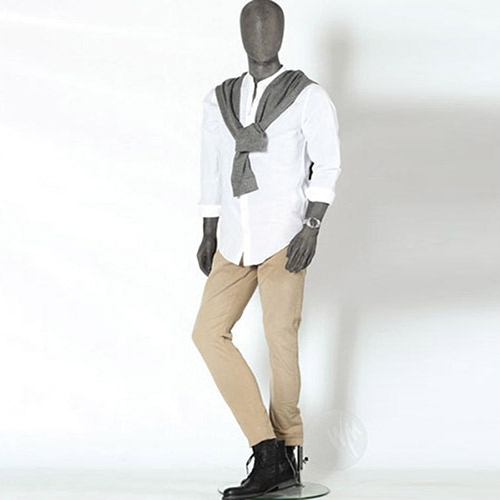person-like: (183, 1, 346, 497)
